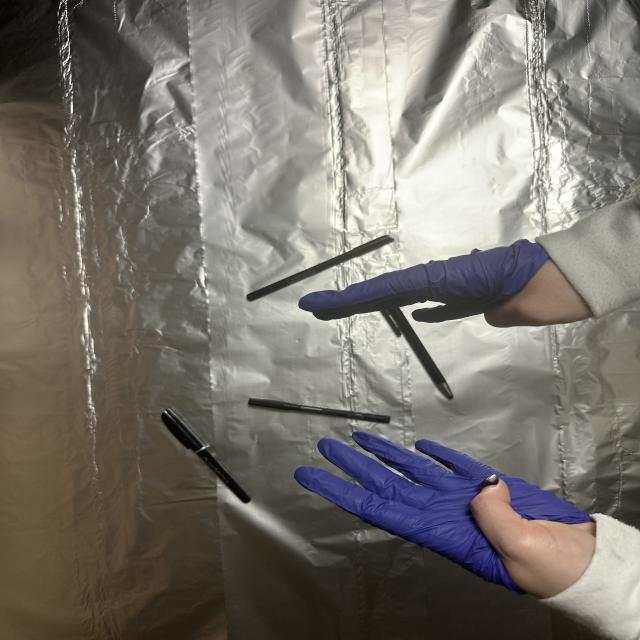glove_partial: (289, 425, 603, 603), (297, 236, 598, 330)
